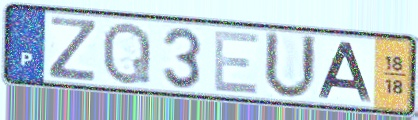3: (160, 25, 204, 91)
A: (315, 40, 375, 104)
E: (211, 29, 262, 97)
Q: (100, 20, 154, 87)
U: (261, 28, 319, 102)
Z: (46, 15, 99, 84)
